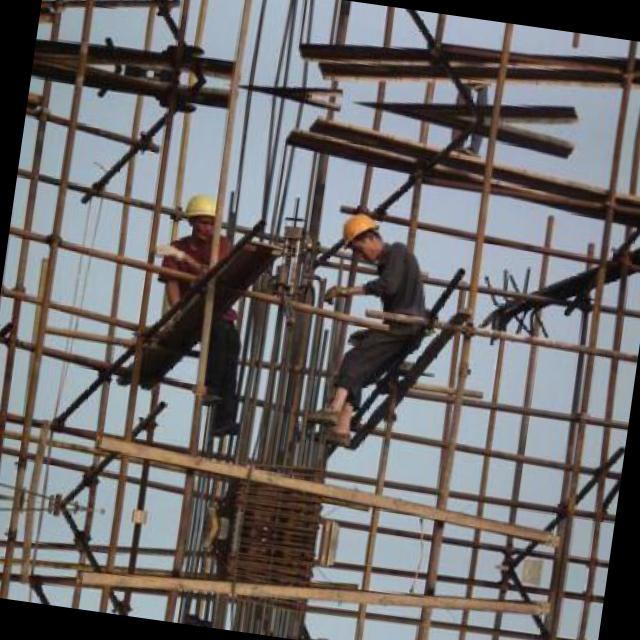helmet: (176, 183, 228, 250), (334, 206, 388, 260)
